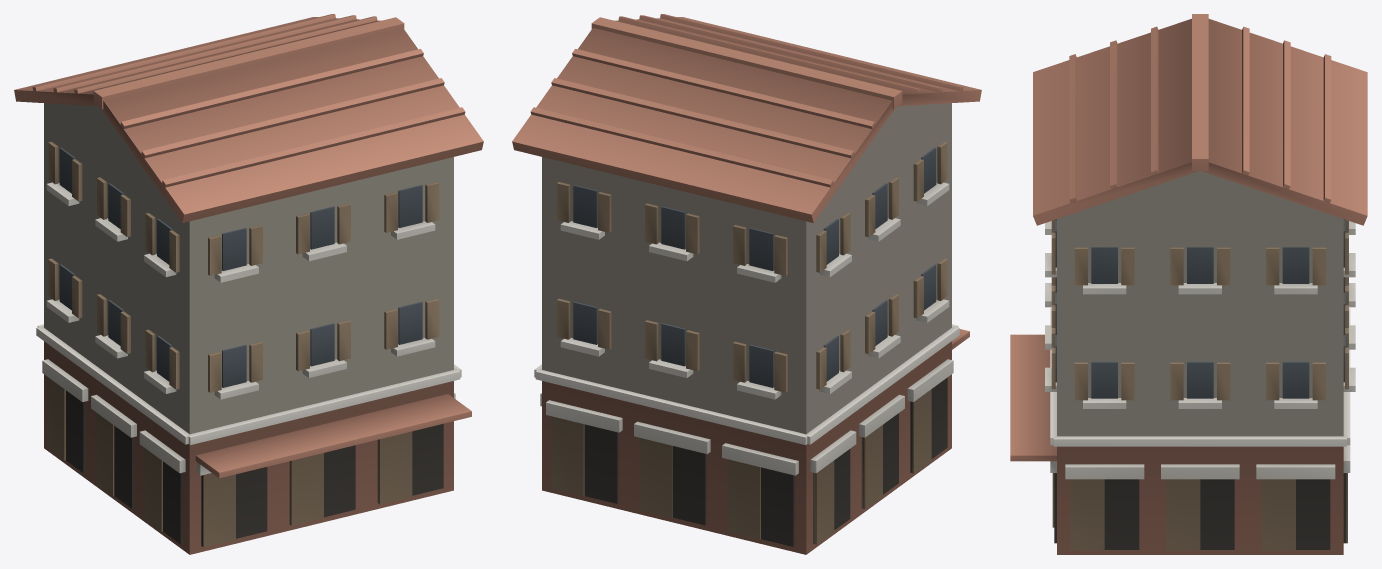
File: house_ancient_3.glb
The picture shows the model from 3 angles, left to right: view 1: azimuth 30°, elevation 25°; view 2: azimuth 150°, elevation 25°; view 3: azimuth 270°, elevation 25°; orthographic projection.
Parts seen in each view (by area): view 1: Body_Detail, Body_Wall, Body_Roof; view 2: Body_Detail, Body_Wall, Body_Roof; view 3: Body_Roof, Body_Wall, Body_Detail.
Boxes of the visible parts, x1,y1,x2,y2 form: Body_Detail: (36,141,461,554); Body_Wall: (44,103,453,434); Body_Roof: (14,14,483,478); Body_Detail: (534,141,959,554); Body_Wall: (542,103,951,434); Body_Roof: (512,14,981,349); Body_Roof: (1010,14,1367,461); Body_Wall: (1057,171,1343,436); Body_Detail: (1045,219,1355,554).
Bounding box in the file's own units: 1.03 × 1.34 × 1.07.
